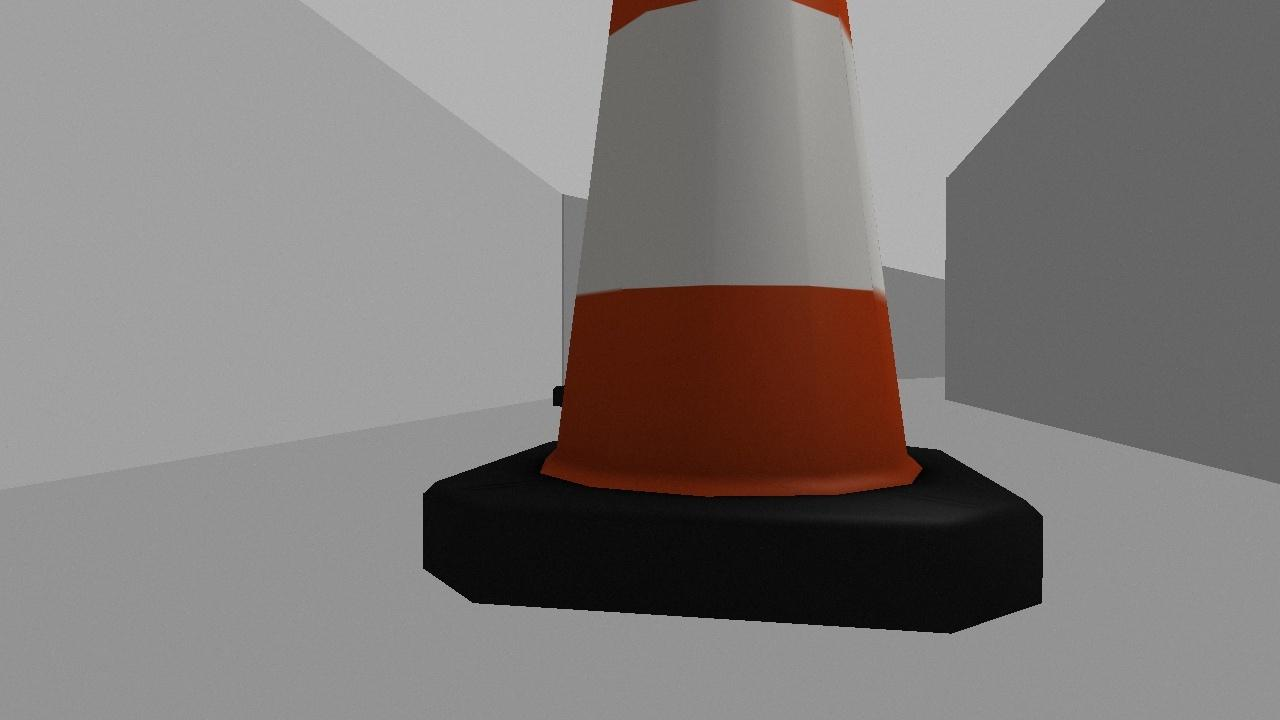cone_barrel: (418, 0, 1046, 632)
